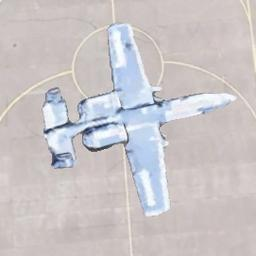Airplane: (40, 21, 236, 217)
